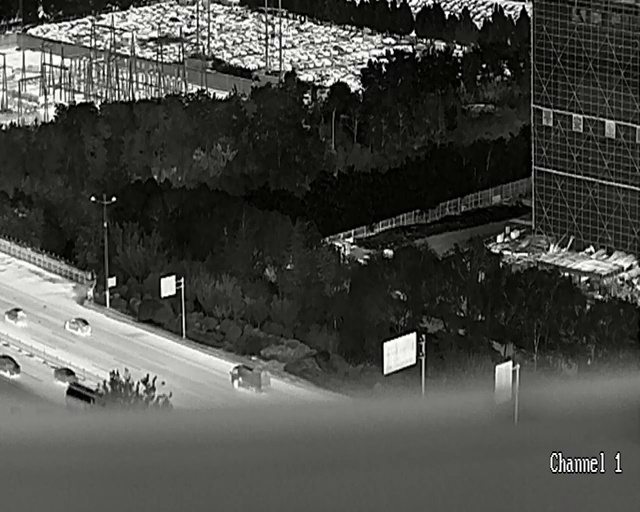uav: (14, 208, 25, 215)
